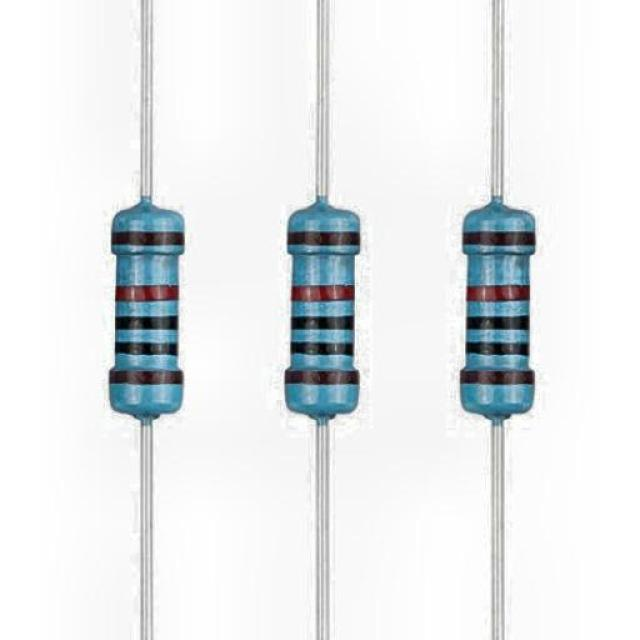Resistor: (264, 63, 369, 543), (99, 56, 199, 545), (444, 66, 546, 542)
